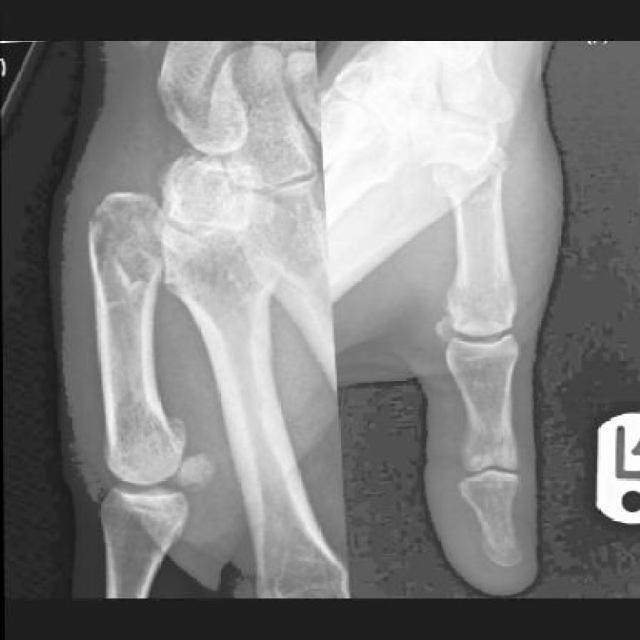Fracture: (85, 191, 215, 296), (431, 145, 510, 205)
